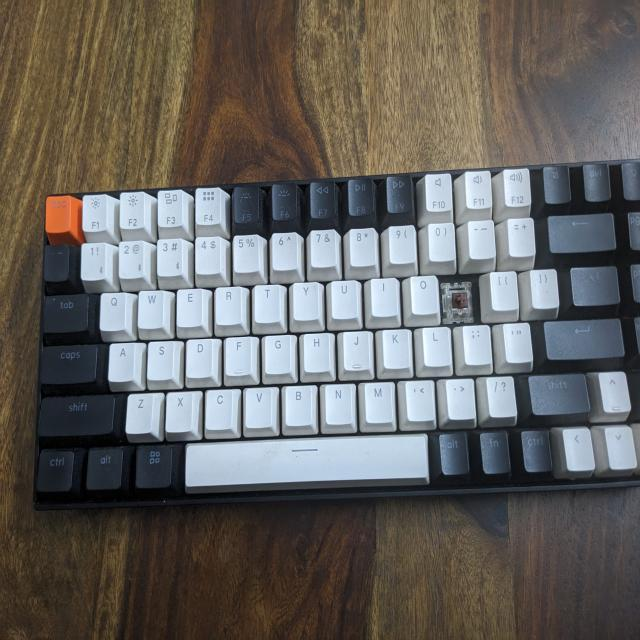key-switch: (443, 278, 476, 320)
